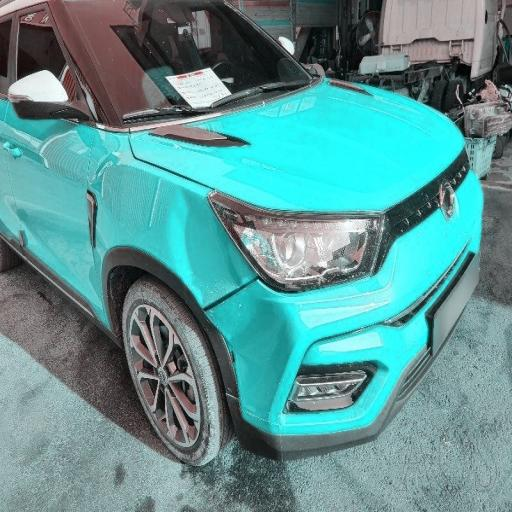scratch: (30, 42, 231, 292)
